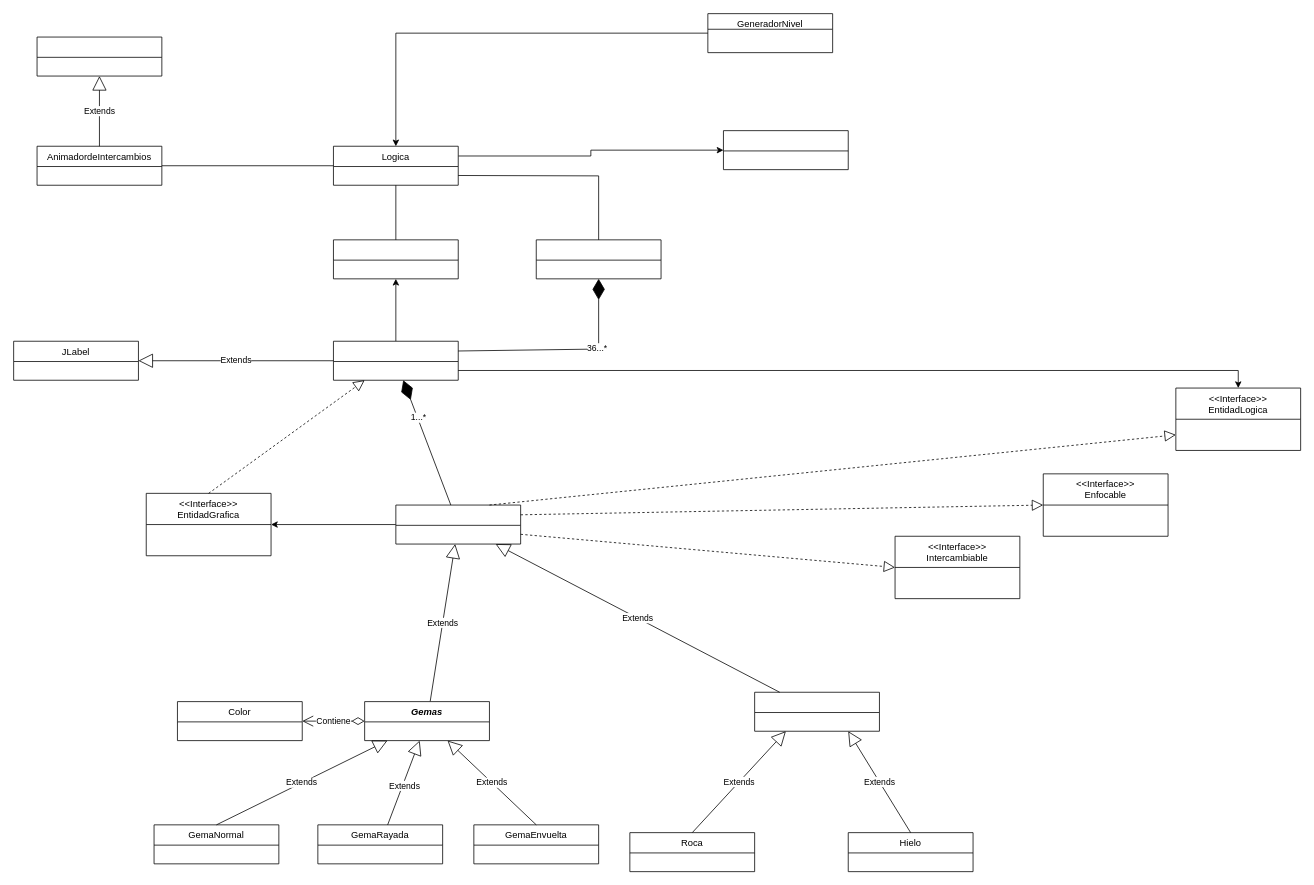
Some shapes in this 1314 by 885 pixel diagram are drawn without their labels. The shapes that lost their labels are listed below. From the top down, each one's centre as x and y in pixels, then its label:
the point at 99,56: Threads
the point at 785,150: Nivel
the point at 395,259: GUI
the point at 598,259: Tablero
the point at 395,360: Celda
the point at 458,524: entidad
the point at 816,711: Obstaculo
